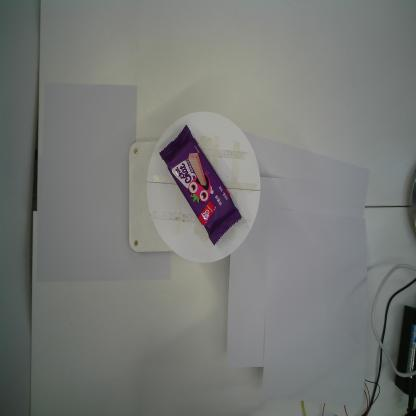Dessert: (159, 124, 242, 246)
